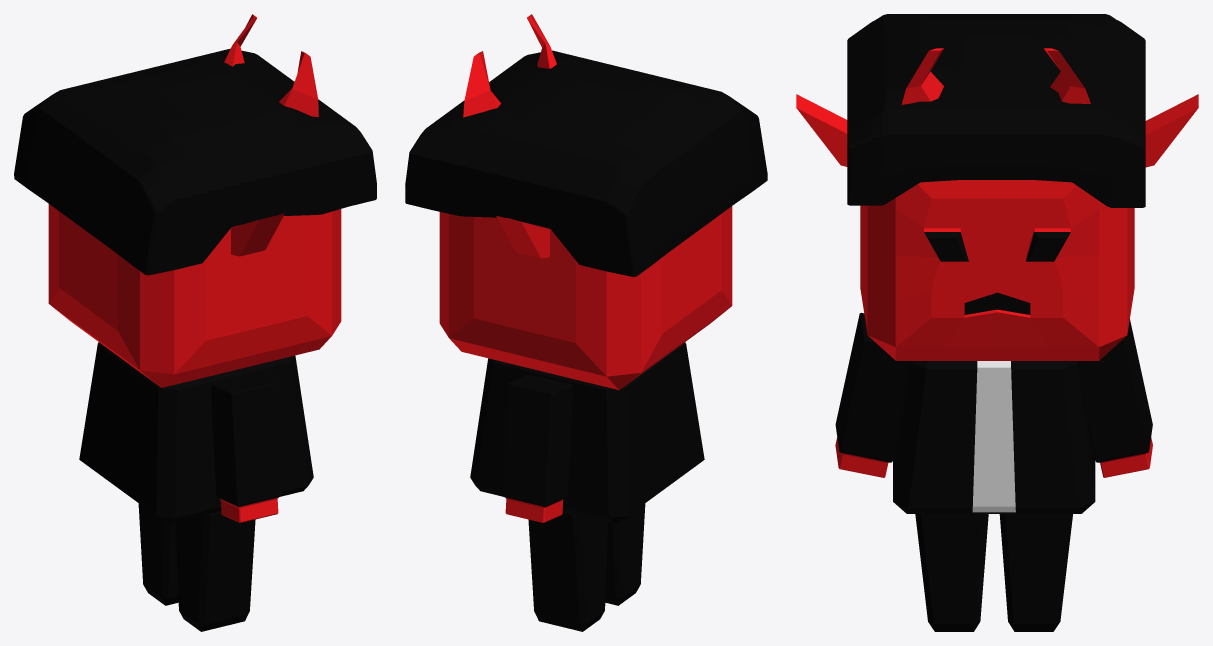
The model's file is DevilModel_3.fbx.
The picture shows the model from 3 angles, left to right: view 1: azimuth 30°, elevation 25°; view 2: azimuth 150°, elevation 25°; view 3: azimuth 270°, elevation 25°; orthographic projection. The views are drawn at different scales.
Parts seen in each view (by area): view 1: Cube.002, Head, Torso, LegLeft, Cube.001; view 2: Cube.002, Head, Torso, LegLeft, Cube.001; view 3: Head, Cube.002, Torso, Cube.001, LegLeft.
Part boxes in pixels (x1,y1,x2,y2): Cube.002: [14, 48, 376, 275]; Head: [48, 14, 341, 387]; Torso: [79, 342, 313, 523]; LegLeft: [138, 503, 255, 631]; Cube.001: [211, 374, 281, 522]; Cube.002: [405, 50, 767, 276]; Head: [439, 14, 732, 389]; Torso: [470, 342, 704, 524]; LegLeft: [528, 503, 645, 631]; Cube.001: [502, 374, 572, 522]; Head: [796, 48, 1198, 360]; Cube.002: [847, 14, 1145, 207]; Torso: [893, 361, 1095, 513]; Cube.001: [835, 312, 1152, 477]; LegLeft: [915, 514, 1072, 631].
Size of the model in its own units: 202 by 456 by 270.
